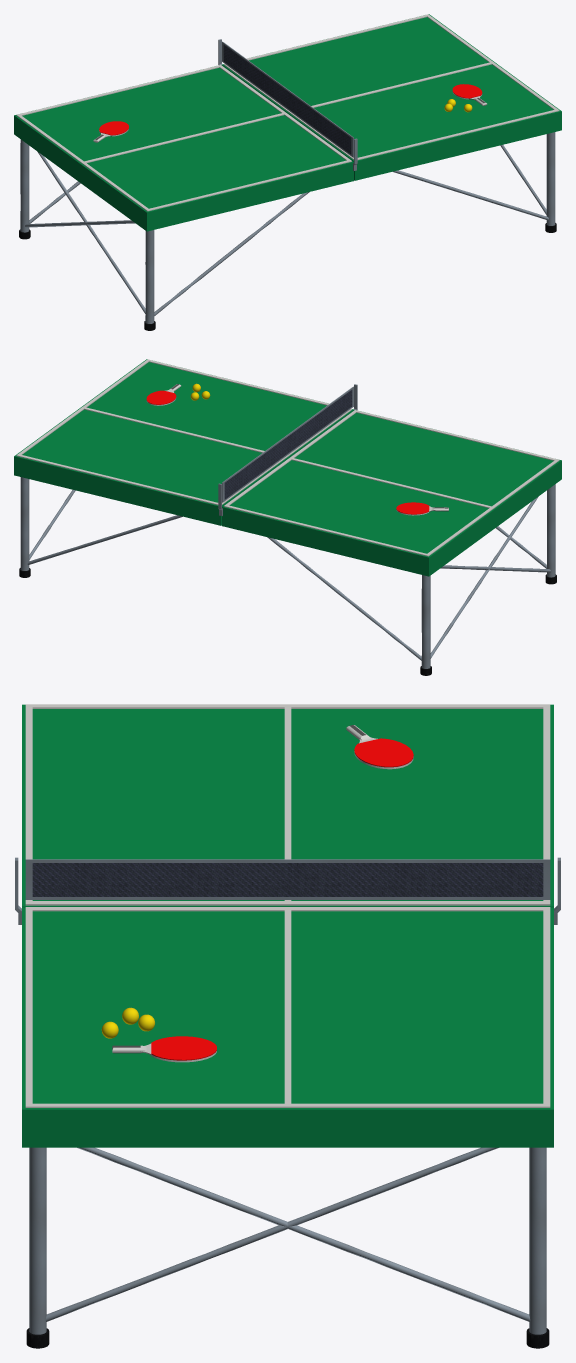
File: ping pong fbx.FBX
3 views of the same model, one above another, from view 1: azimuth 30°, elevation 25°; view 2: azimuth 150°, elevation 25°; view 3: azimuth 270°, elevation 25° (orthographic). The views are drawn at different scales.
Parts seen in each view (by area): view 1: Extrusion [1914], Extrusion [2017], Extrusion [2589], Extrusion [3348], Extrusion [3849], Extrusion [2241], Extrusion [2249], Extrusion [2118], Extrusion [2314], Extrusion [3792], Extrusion [2257], Extrusion [2485] (+3 smaller); view 2: Extrusion [1914], Extrusion [2017], Extrusion [2589], Extrusion [3348], Extrusion [3849], Extrusion [2221], Extrusion [2118], Extrusion [2241], Extrusion [3792], Extrusion [2526], Extrusion [2350], Extrusion [2508] (+3 smaller); view 3: Extrusion [1914], Extrusion [3849], Extrusion [2017], Extrusion [3348], Extrusion [2589], Extrusion [3792], Extrusion [2539], Extrusion [2543], Extrusion [2221], Extrusion [2249], Ping Pong Racket Ping Pong Racket [5828], Ping Pong Racket Ping Pong Racket [5828]001.
Part boxes in pixels (box(x1,y1,x2,y2)): Extrusion [1914]: box(14, 14, 561, 215); Extrusion [2017]: box(14, 114, 561, 231); Extrusion [2589]: box(16, 65, 351, 211); Extrusion [3348]: box(224, 14, 559, 159); Extrusion [3849]: box(223, 45, 351, 154); Extrusion [2241]: box(145, 230, 154, 323); Extrusion [2249]: box(546, 132, 555, 225); Extrusion [2118]: box(20, 139, 29, 232); Extrusion [2314]: box(154, 192, 309, 315); Extrusion [3792]: box(222, 41, 353, 157); Extrusion [2257]: box(37, 151, 145, 313); Extrusion [2485]: box(392, 170, 548, 220); Extrusion [1914]: box(14, 359, 561, 560); Extrusion [2017]: box(14, 459, 561, 576); Extrusion [2589]: box(224, 410, 559, 556); Extrusion [3348]: box(16, 359, 351, 505); Extrusion [3849]: box(224, 390, 352, 499); Extrusion [2221]: box(20, 477, 29, 570); Extrusion [2118]: box(421, 575, 430, 668); Extrusion [2241]: box(547, 484, 555, 577); Extrusion [3792]: box(222, 386, 353, 502); Extrusion [2526]: box(267, 537, 421, 660); Extrusion [2350]: box(430, 496, 538, 658); Extrusion [2508]: box(27, 515, 182, 564); Extrusion [1914]: box(22, 704, 553, 1115); Extrusion [3849]: box(32, 863, 543, 896); Extrusion [2017]: box(22, 1116, 553, 1147); Extrusion [3348]: box(25, 907, 550, 1107); Extrusion [2589]: box(25, 704, 550, 905); Extrusion [3792]: box(25, 859, 550, 899); Extrusion [2539]: box(45, 1147, 498, 1321); Extrusion [2543]: box(77, 1147, 530, 1321); Extrusion [2221]: box(529, 1147, 546, 1334); Extrusion [2249]: box(29, 1147, 46, 1334); Ping Pong Racket Ping Pong Racket [5828]: box(112, 1036, 216, 1062); Ping Pong Racket Ping Pong Racket [5828]001: box(346, 725, 413, 769).
Size of the model in its own units: 274 by 91.06 by 156.
10 materials, 7 textured.
